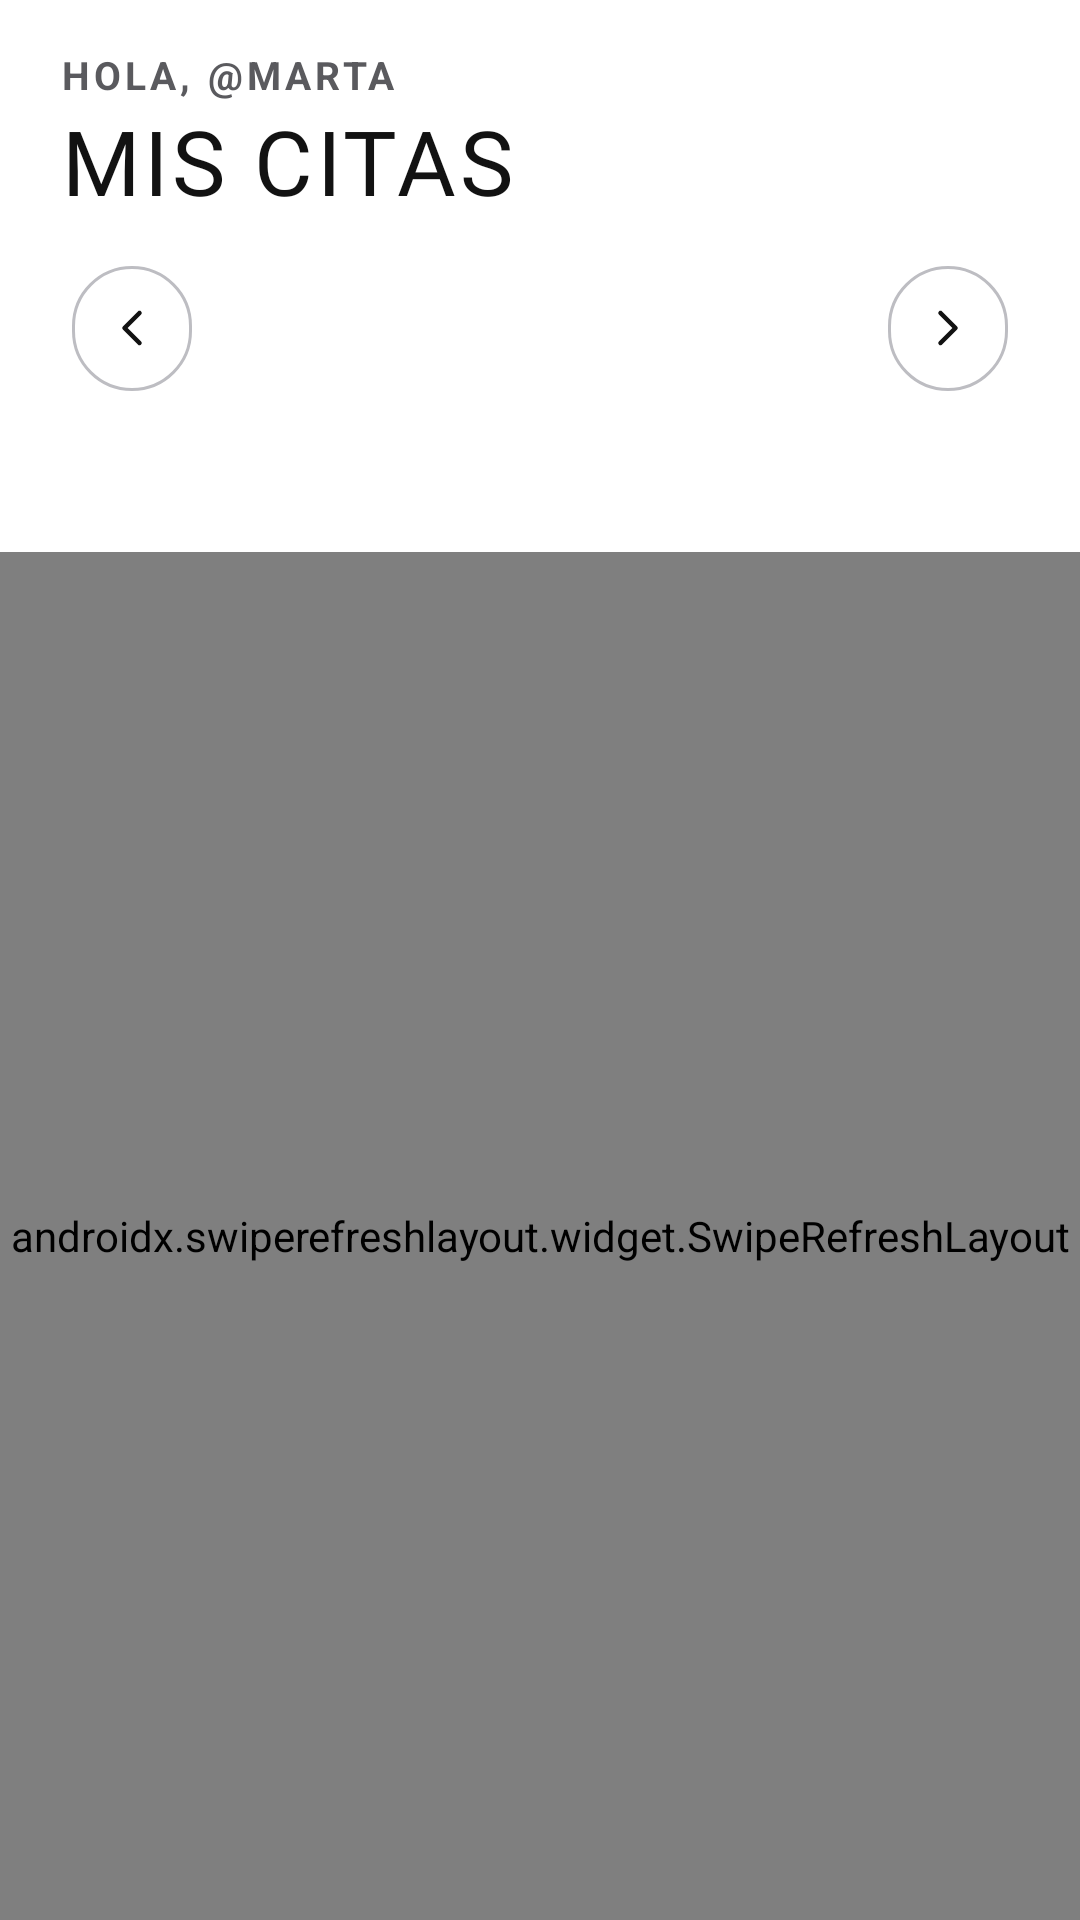

Where to tap for icons on this 1080*1920 app screen, as [x,y]:
Semana anterior: [132,328]
Semana siguiente: [948,328]
